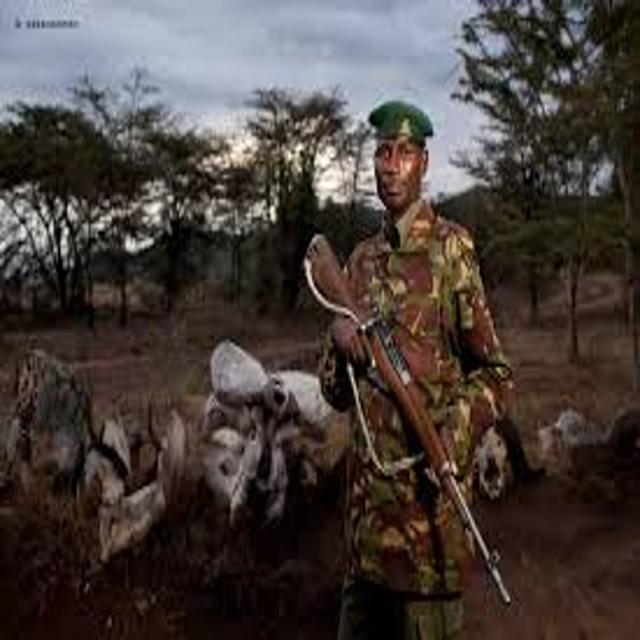gun: (274, 229, 535, 617)
ranger: (239, 73, 593, 633)
